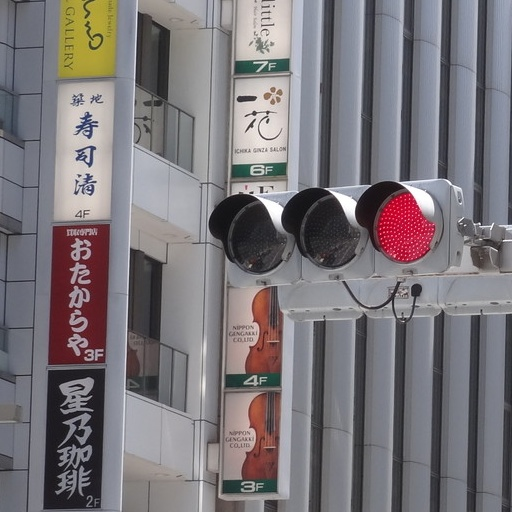Traffic_Signal_Red: (205, 177, 464, 282)
